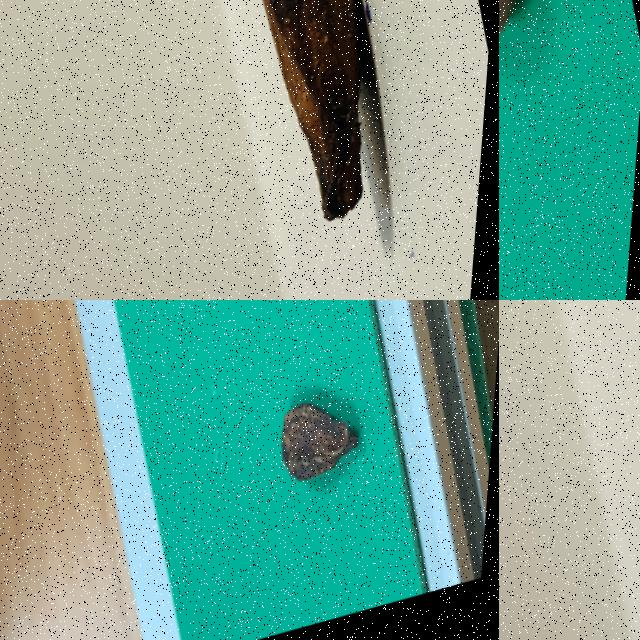Fine_cocoabeans: (532, 300, 639, 553), (499, 0, 600, 173)
Flat_cocoabeans: (185, 0, 490, 299), (216, 300, 437, 569)
